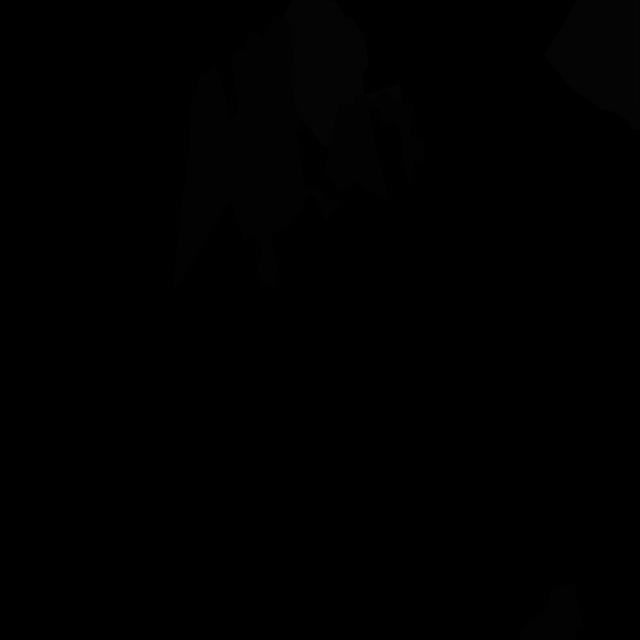cardboard: (172, 16, 343, 292), (322, 91, 424, 199), (518, 583, 583, 640)
soft_plastic: (282, 0, 402, 146), (544, 0, 640, 129)
